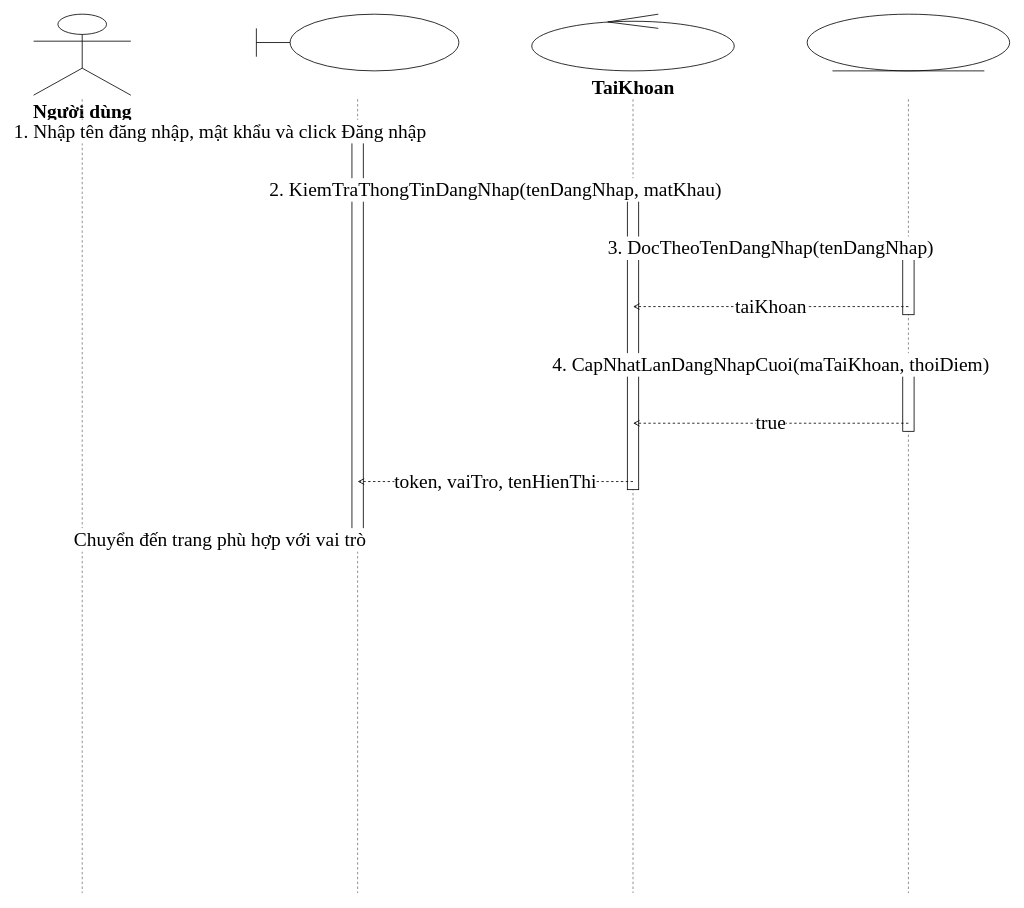
This 1024x908 diagram has some shape labels left out. The box of each missing label's shape, as (x1, y1, x2, y2) in pixels:
MHDangNhap: (256, 13, 459, 71)
TaiKhoanDB: (806, 13, 1010, 71)
